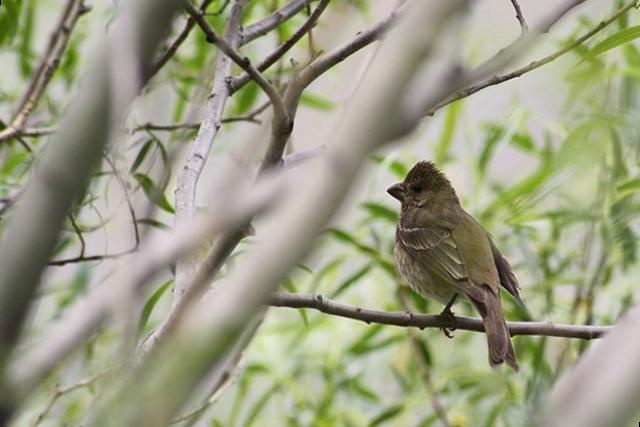rosefinch: (381, 151, 529, 334)
